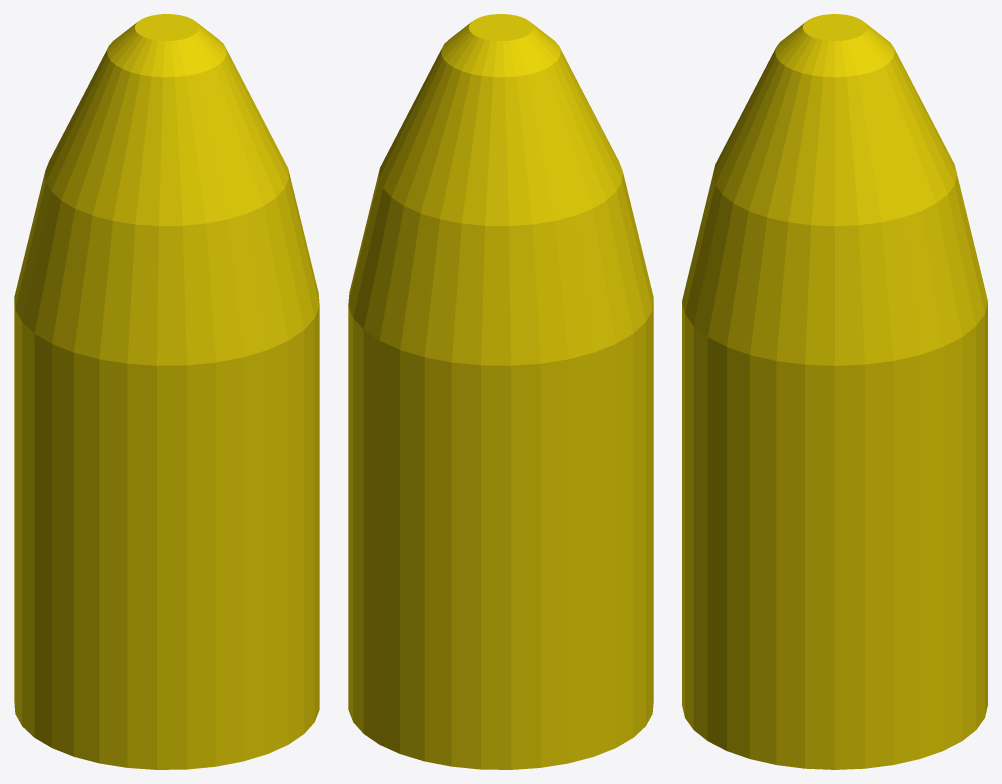
File: Bullet.fbx
3 views of the same model, side by side, from view 1: azimuth 30°, elevation 25°; view 2: azimuth 150°, elevation 25°; view 3: azimuth 270°, elevation 25° (orthographic).
Visible parts, largest first — view 1: Bullet; view 2: Bullet; view 3: Bullet.
Part boxes in pixels (x1,y1,x2,y2): Bullet: (14,14,319,769); Bullet: (348,14,653,769); Bullet: (682,14,987,769).
Size of the model in its own units: 0.1161 by 0.2837 by 0.1161.
